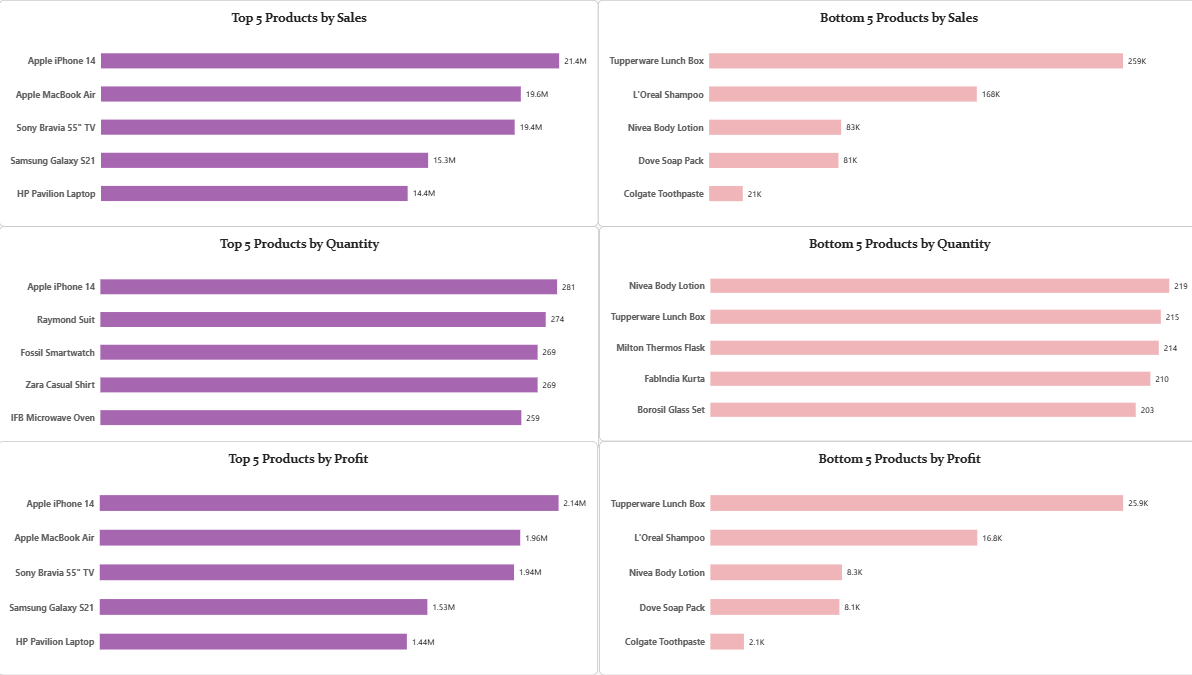

The page's visual inventory and layout, read from the dashboard file:
{"tool":"powerbi","page":{"name":"Top/Bottom analysis","canvas":[1920,1080],"ordinal":1},"visuals":[{"type":"barChart","title":"Top 5 Products by Sales","fields":{"Category":["Dim Product.Product Name"],"Y":["Sum(Fact table.Net sales)"]},"box":[2,0,958,362],"z":0},{"type":"barChart","title":"Bottom 5 Products by Sales","fields":{"Category":["Dim Product.Product Name"],"Y":["Sum(Fact table.Net sales)"]},"box":[959.2,0,961.2,362.3],"z":1000},{"type":"barChart","title":"Top 5 Products by Quantity","fields":{"Category":["Dim Product.Product Name"],"Y":["Sum(Fact table.Units Sold)"]},"box":[2.1,362.3,959.2,358.1],"z":2000},{"type":"barChart","title":"Bottom 5 Products by Quantity","fields":{"Category":["Dim Product.Product Name"],"Y":["Sum(Fact table.Units Sold)"]},"box":[961.2,362.3,959.2,343.7],"z":3000},{"type":"barChart","title":"Top 5 Products by Profit","fields":{"Category":["Dim Product.Product Name"],"Y":["Sum(Fact table.Profit)"]},"box":[0,706,959.1,374.6],"z":4000},{"type":"barChart","title":"Bottom 5 Products by Profit","fields":{"Category":["Dim Product.Product Name"],"Y":["Sum(Fact table.Profit)"]},"box":[961.2,706,959.1,374.6],"z":5000}]}

Visuals, with their boxes in screenshot pixels (x1, y1, x2, y2), scaled from the page's 1920x1080 canvas onto the 1192x675 screenshot:
"Top 5 Products by Sales" barChart: bbox=[1, 0, 596, 226]
"Bottom 5 Products by Sales" barChart: bbox=[596, 0, 1191, 226]
"Top 5 Products by Quantity" barChart: bbox=[1, 226, 597, 450]
"Bottom 5 Products by Quantity" barChart: bbox=[597, 226, 1191, 441]
"Top 5 Products by Profit" barChart: bbox=[0, 441, 595, 674]
"Bottom 5 Products by Profit" barChart: bbox=[597, 441, 1191, 674]
